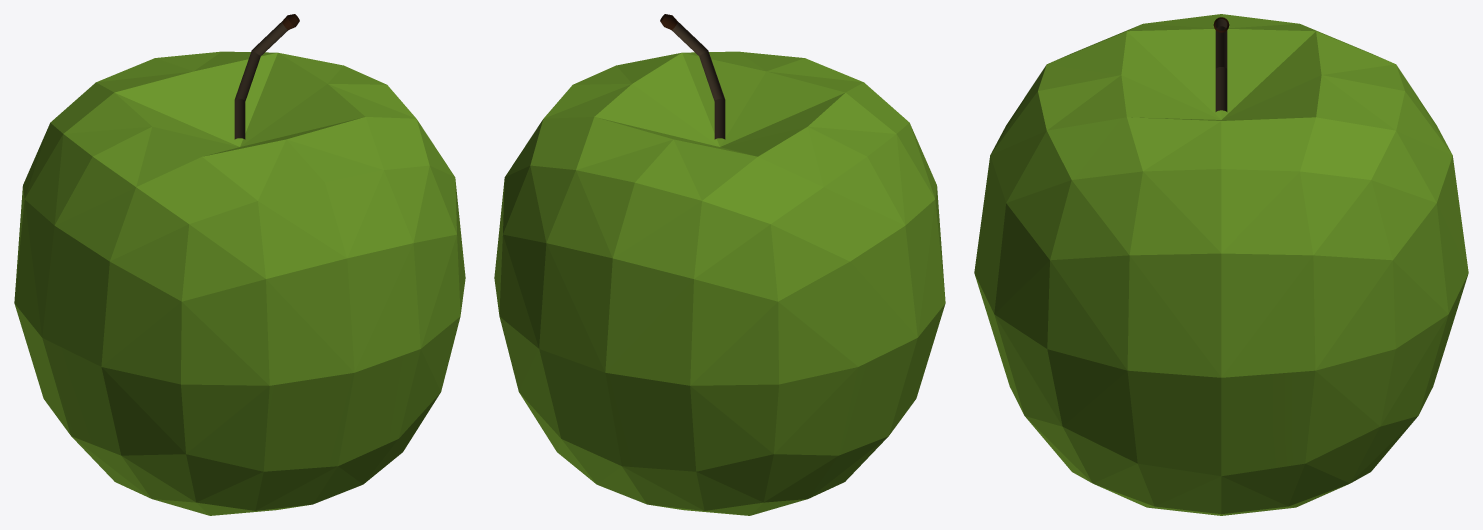
3 renders of one model, left to right at view 1: azimuth 30°, elevation 25°; view 2: azimuth 150°, elevation 25°; view 3: azimuth 270°, elevation 25°, orthographic. The views are drawn at different scales.
Visible parts, largest first — view 1: Cube.002; view 2: Cube.002; view 3: Cube.002.
Part boxes in pixels (x1=…): Cube.002: x1=14, y1=14, x2=465, y2=515; Cube.002: x1=494, y1=14, x2=945, y2=515; Cube.002: x1=974, y1=14, x2=1468, y2=515.
Bounding box in the file's own units: 3.18 × 3.5 × 3.19.
